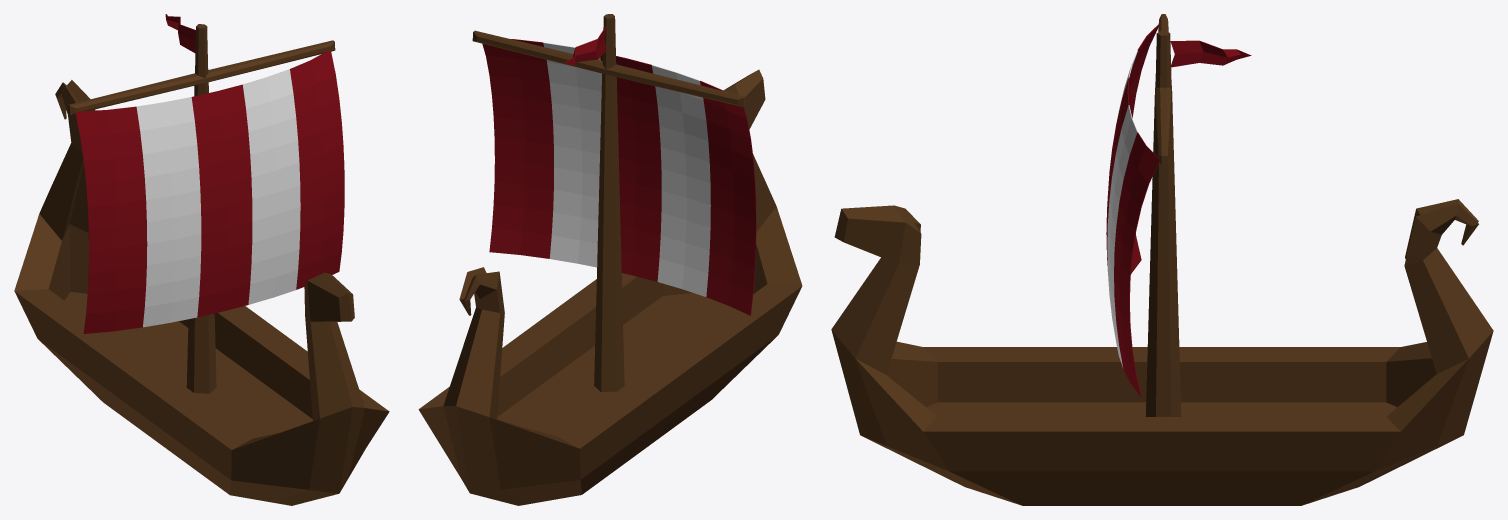
Rendered from skidbladnir.fbx.
3 views of the same model, side by side, from view 1: azimuth 30°, elevation 25°; view 2: azimuth 150°, elevation 25°; view 3: azimuth 270°, elevation 25° (orthographic). The views are drawn at different scales.
Visible parts, largest first — view 1: Cube; view 2: Cube; view 3: Cube.
Boxes of the visible parts, x1,y1,x2,y2 form: Cube: [14, 14, 389, 505]; Cube: [418, 14, 802, 505]; Cube: [831, 14, 1493, 505].
Size of the model in its own units: 417 by 620 by 821.
